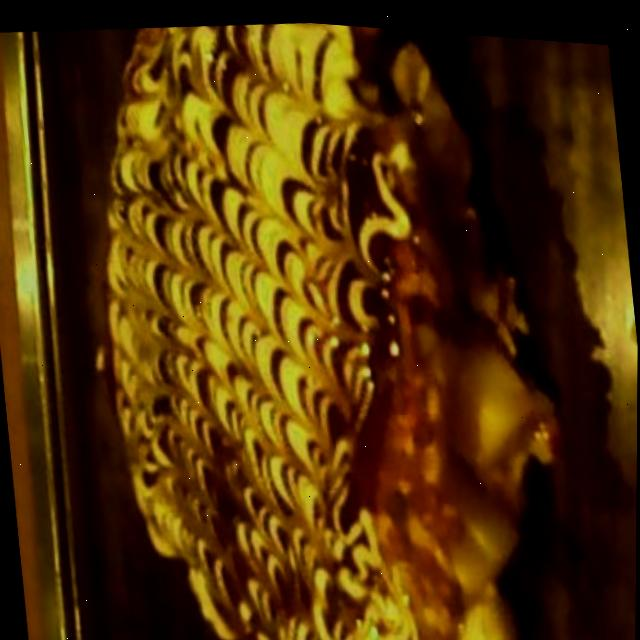蛋糕甜品: (51, 3, 579, 640)
